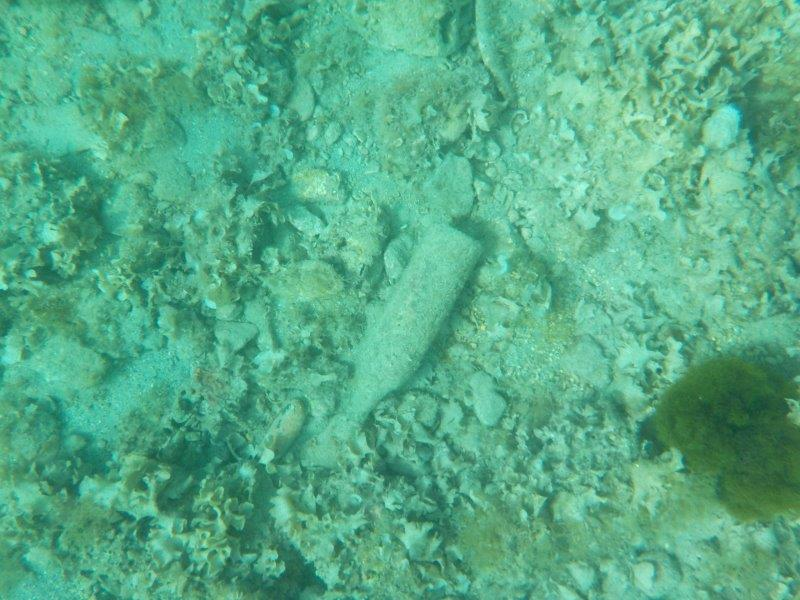bottle: (336, 218, 484, 438)
